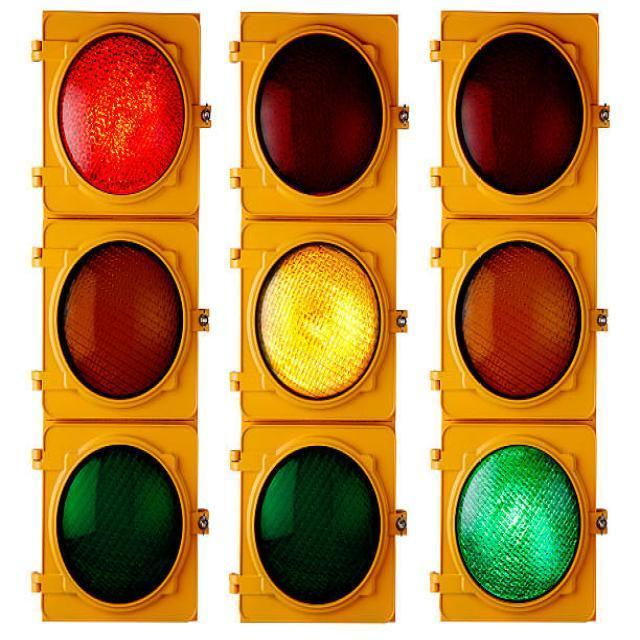green_light: (430, 12, 608, 619)
red_light: (31, 10, 200, 619)
yellow_light: (229, 11, 401, 619)
